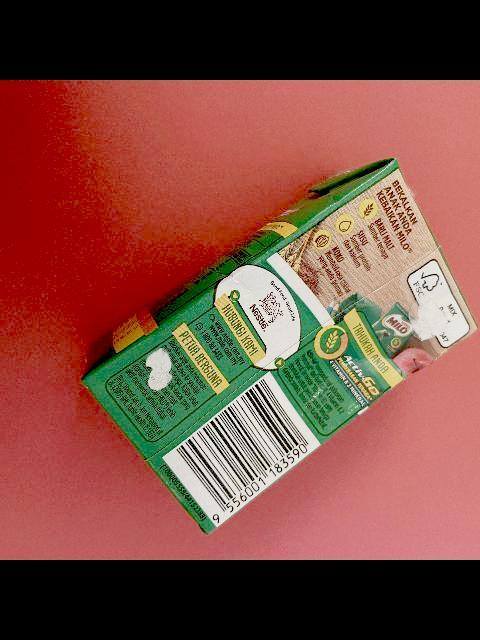drinkpack: (77, 155, 480, 536)
